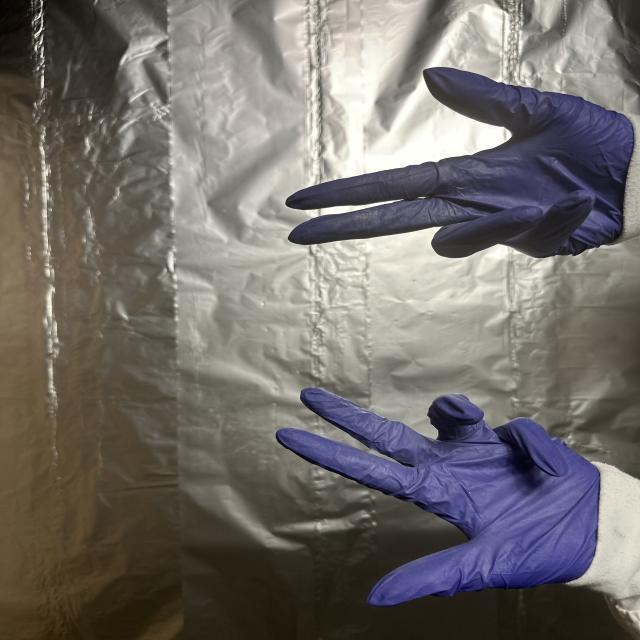gloves_contaminated: (277, 388, 601, 606), (286, 68, 634, 258)
